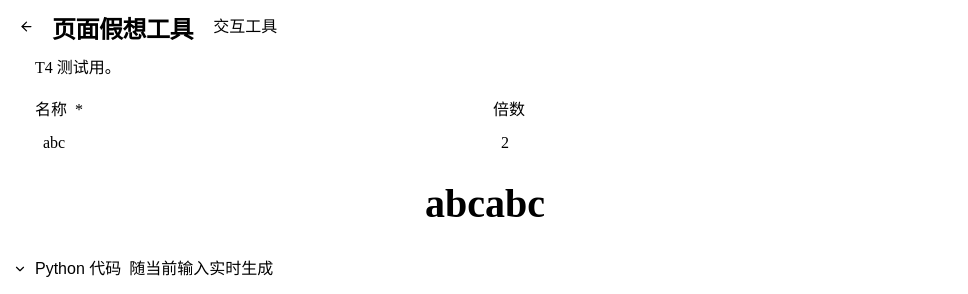
Test: InteractiveToolPage › 输入联动：改字段即时重算
The image size is (968, 294).
Replace the text in the number field labelled "倍数" with "3" at (722, 143), box [493, 126, 951, 160]
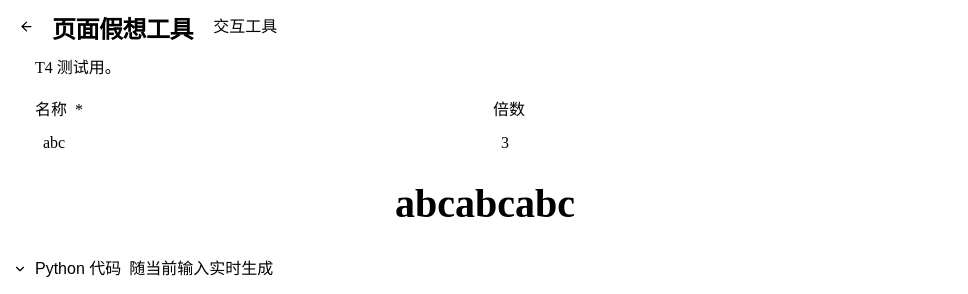
Now the element with test id "tool-primary" reads "abcabcabc", box [395, 181, 575, 226]
